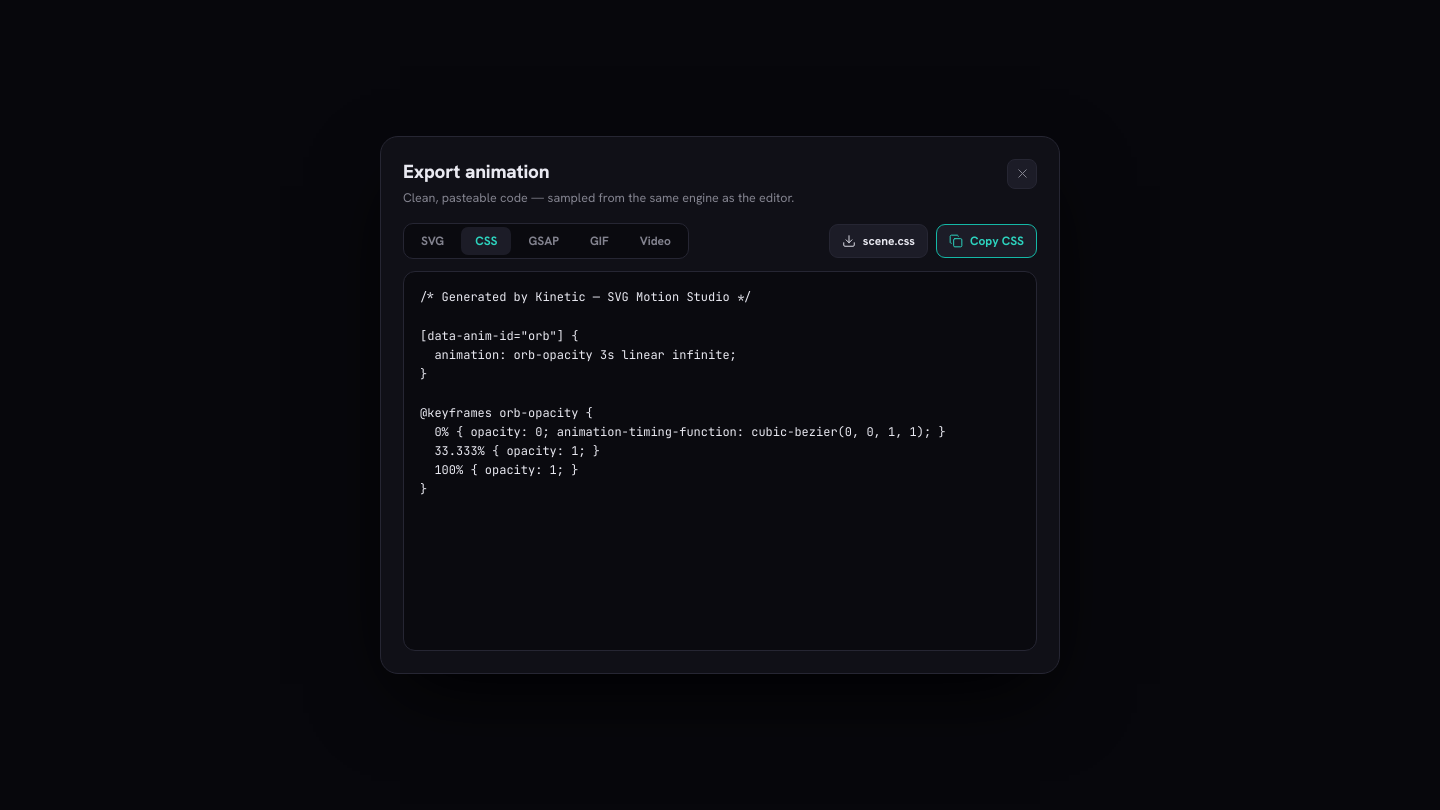
Scenario: ExportDialog › copies the code and shows feedback
This screenshot has width=1440, height=810.
Click the button with test id "export-copy".
click(986, 241)  # box [936,224,1037,258]
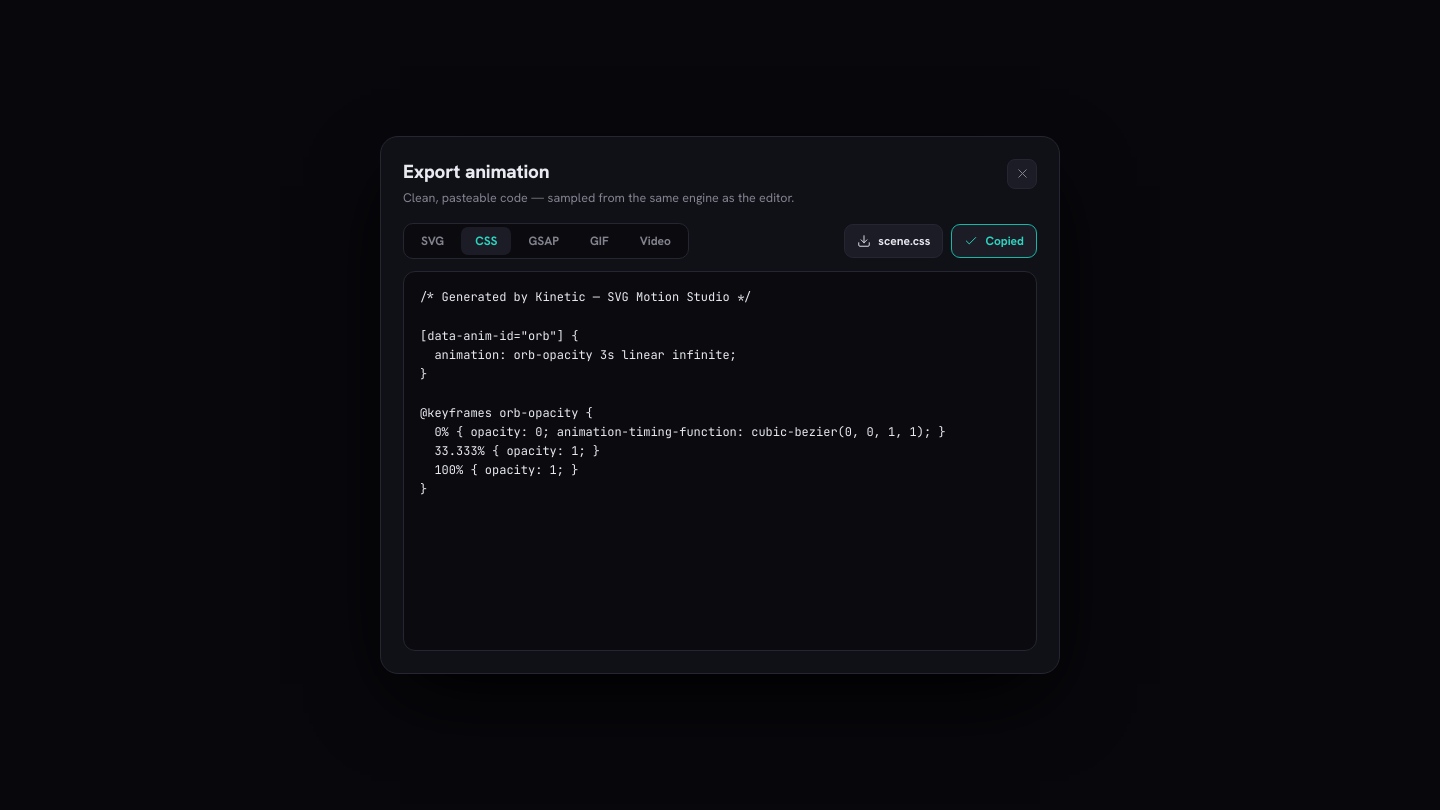
expect the button with test id "export-copy" reads "Copied": met, box [951,224,1037,258]
